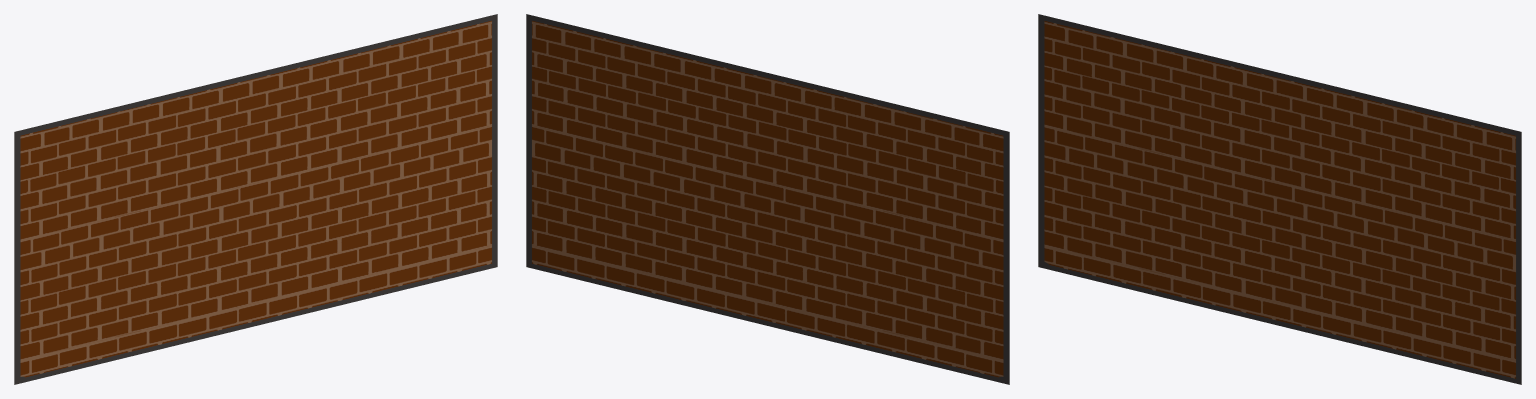
Rendered from muur.fbx.
The picture shows the model from 3 angles, left to right: view 1: azimuth 30°, elevation 25°; view 2: azimuth 150°, elevation 25°; view 3: azimuth 330°, elevation 25°; orthographic projection.
Parts seen in each view (by area): view 1: muur; view 2: muur; view 3: muur.
Boxes of the visible parts, <box> form: muur: <box>14,14,497,384</box>; muur: <box>526,14,1009,384</box>; muur: <box>1038,14,1521,384</box>.
Bounding box in the file's own units: 22.87 × 11.45 × 0.
